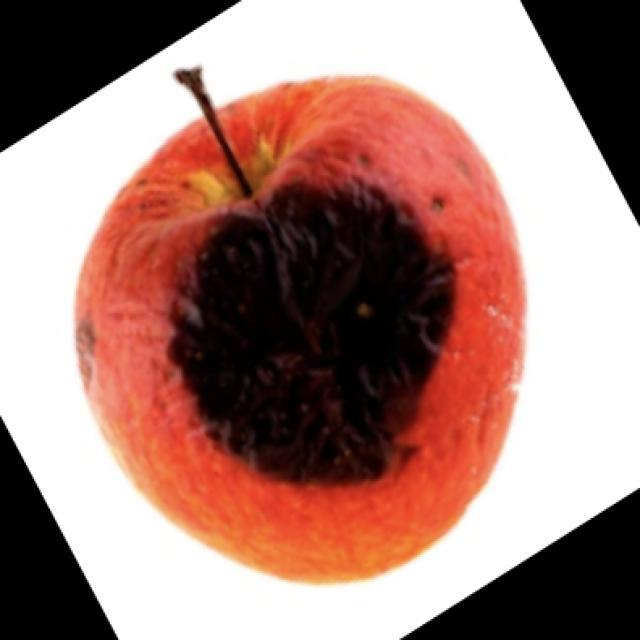Rotten: (88, 73, 507, 567)
